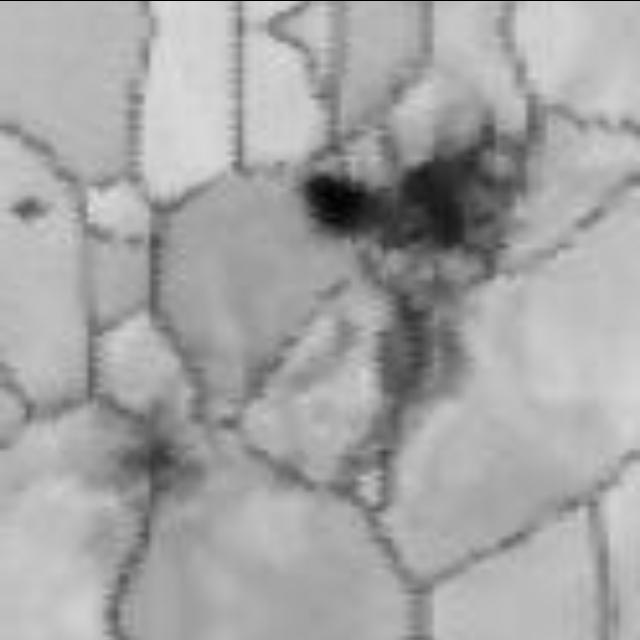good_void: (310, 161, 501, 249), (124, 440, 201, 491), (10, 202, 52, 223)
